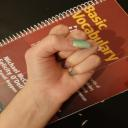Fist: (23, 24, 104, 98)
